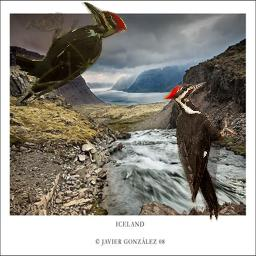Woodpecker: (16, 2, 127, 105), (163, 81, 238, 222)
